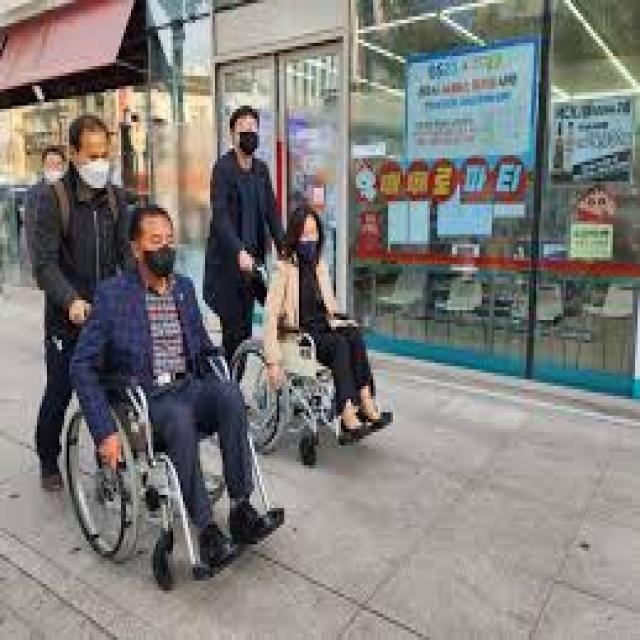wheelchair: (65, 206, 284, 579)
